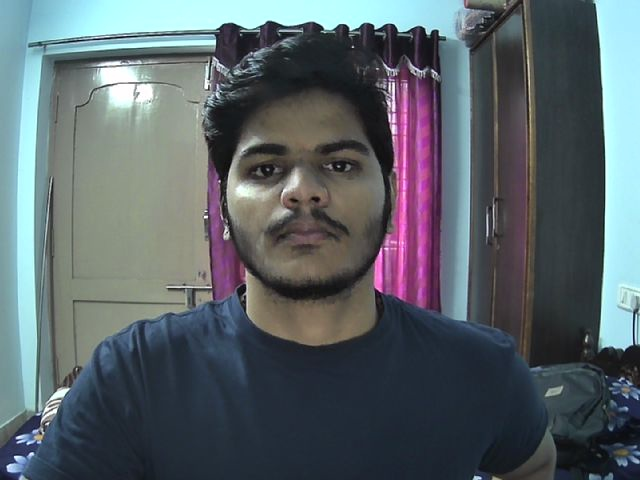NoMask: (225, 184, 389, 302)
